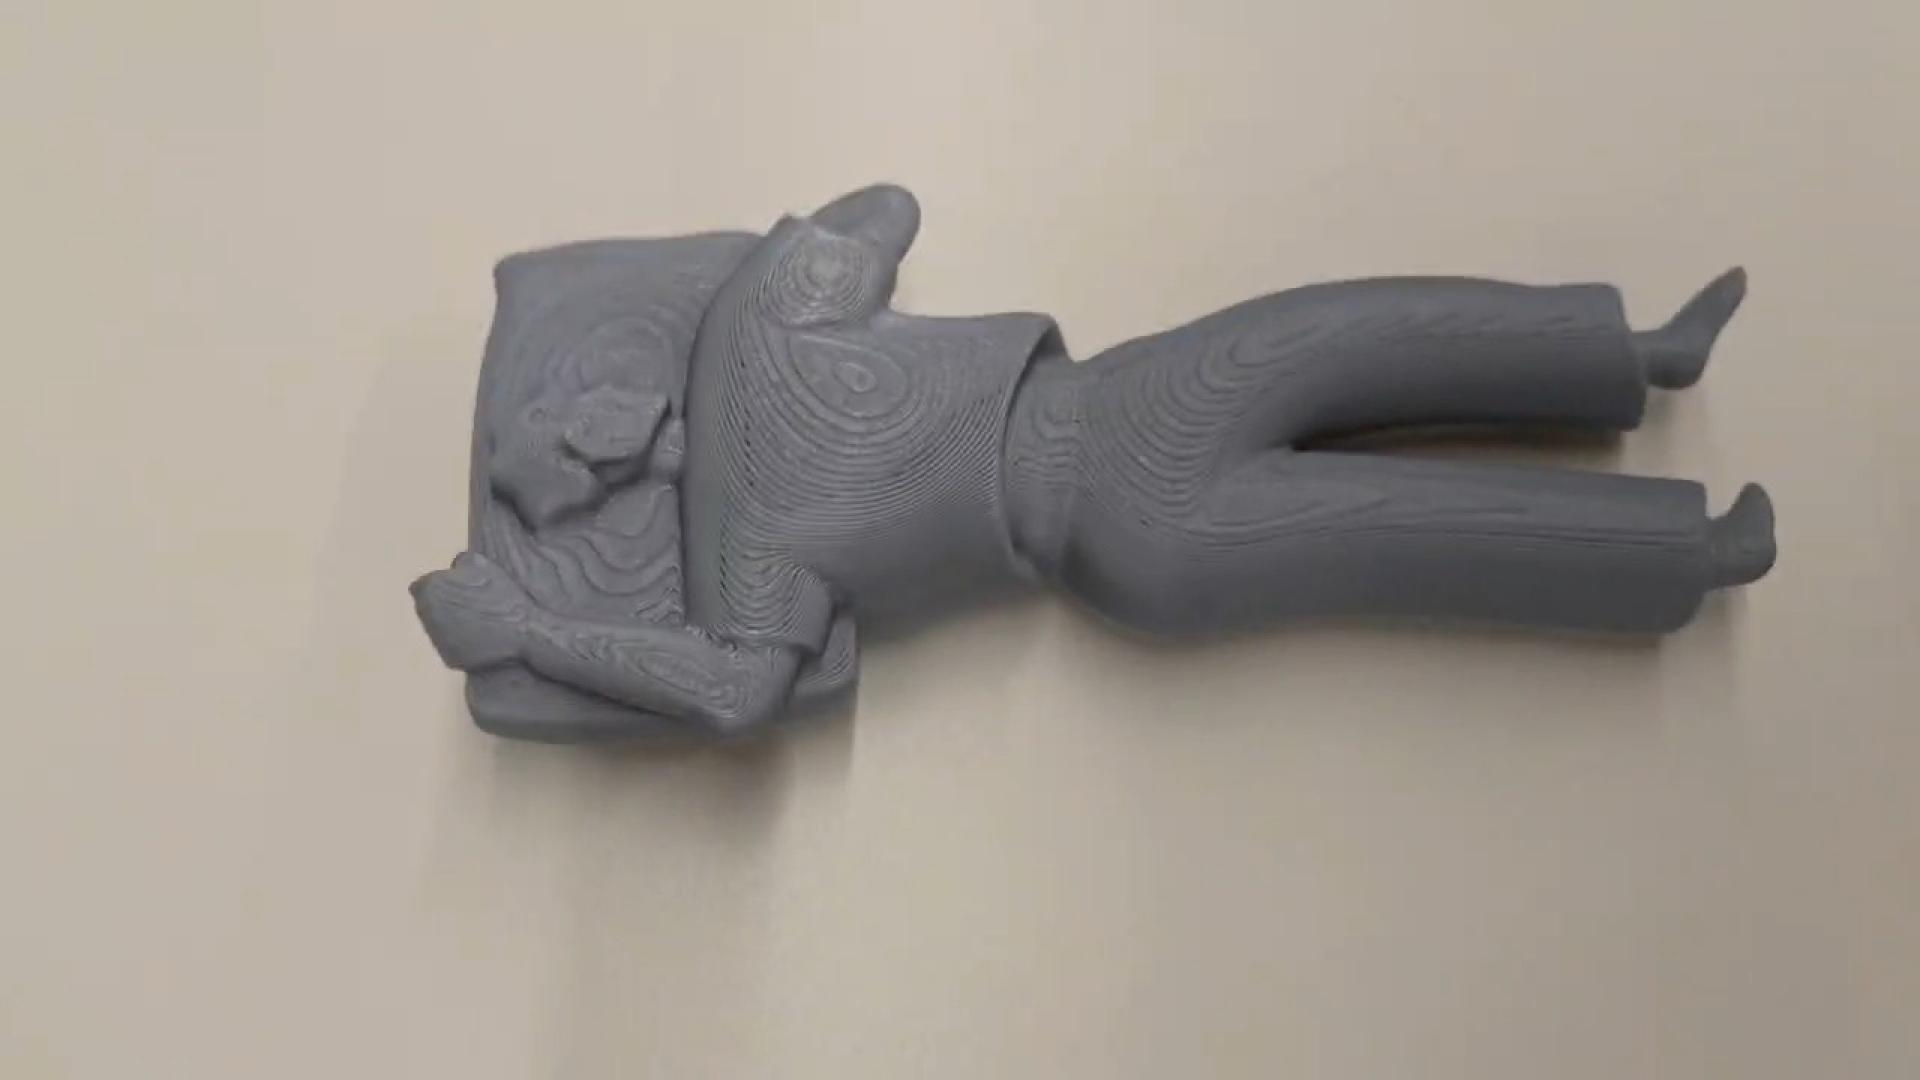Bad-style: (415, 177, 1787, 738)
